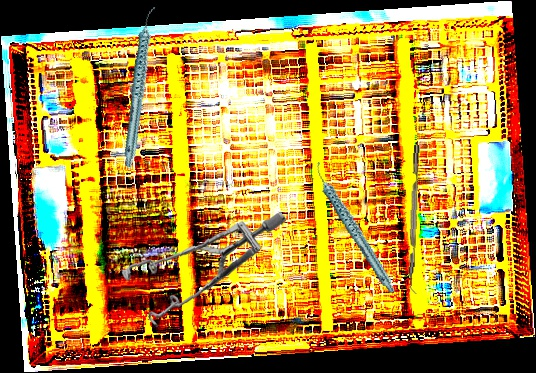Chopper: (406, 144, 427, 295)
Handpiece: (92, 4, 189, 169), (313, 151, 396, 304)
Speculum: (115, 200, 287, 336)
